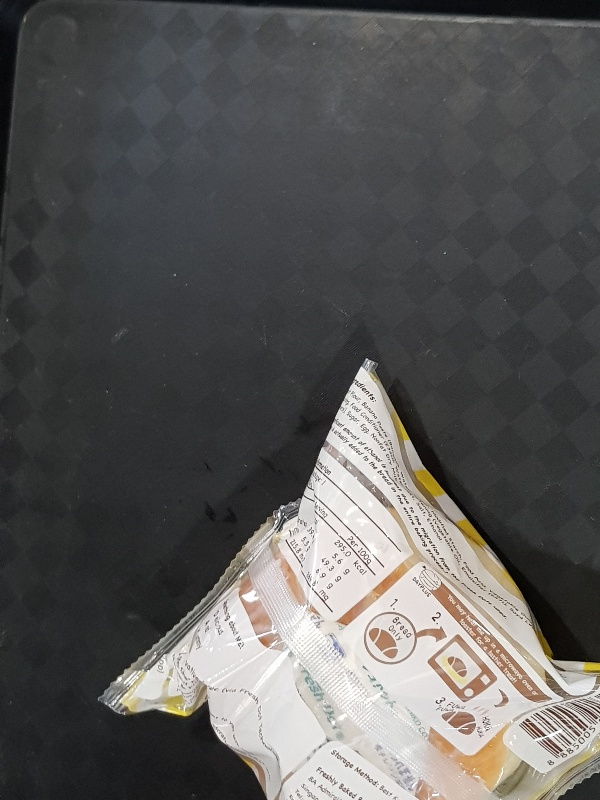Dayplus Banana: (98, 357, 599, 800)
